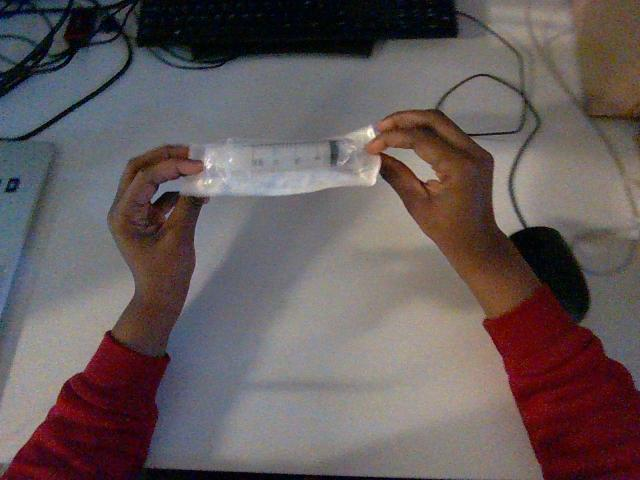syringe: (181, 126, 379, 196)
